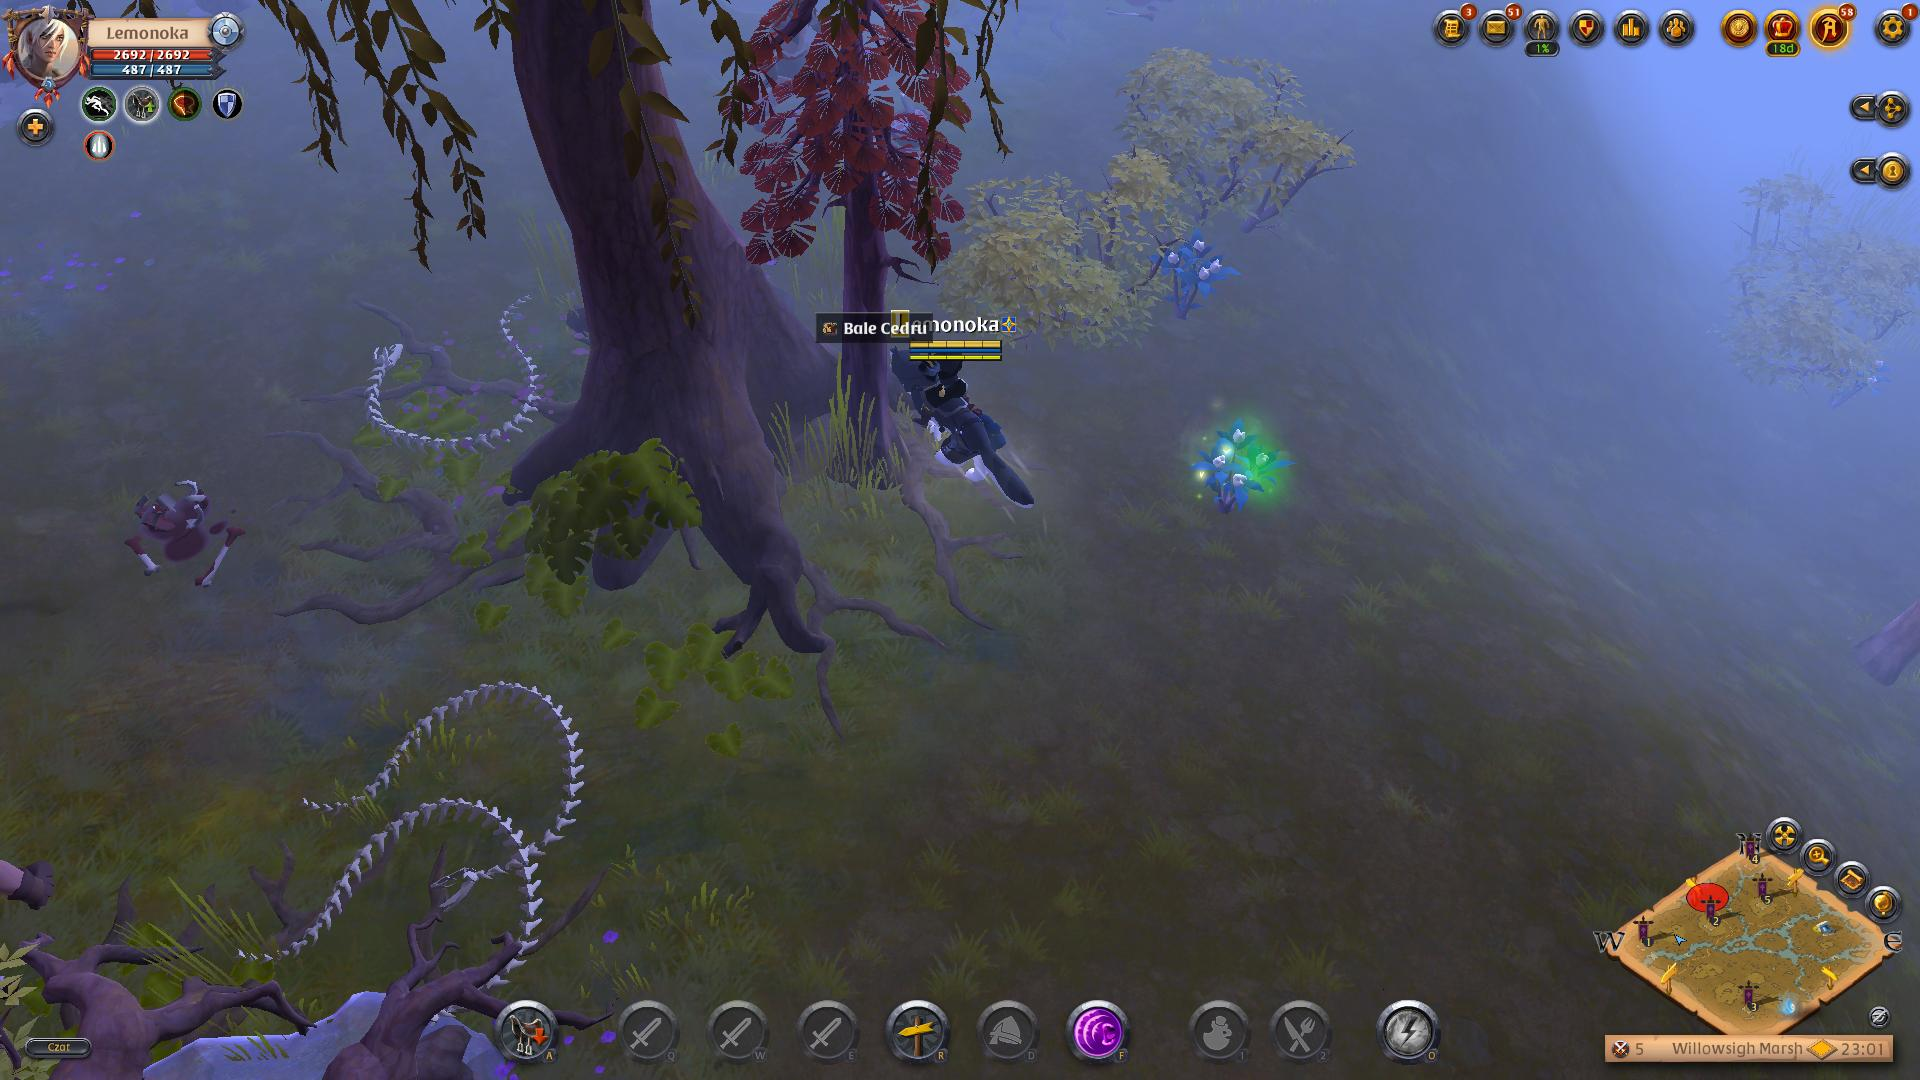fiber tier 4: (1189, 419, 1290, 525), (1156, 228, 1242, 320)
